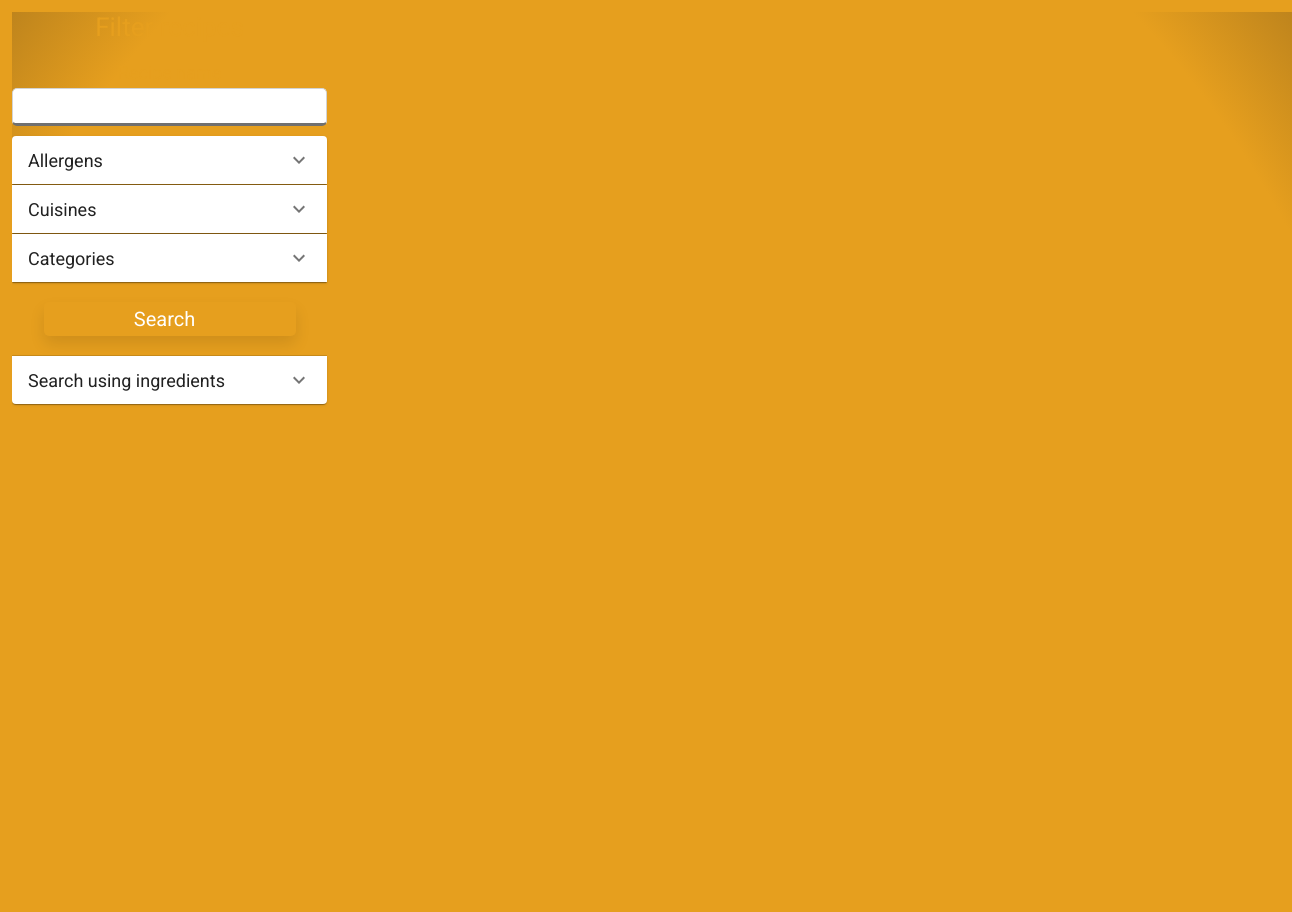
should render ingredient input list
What coordinates should you click on to do the following:
click the button "Search using ingredients"
I would click on:
 (170, 380)
Its box is [28,368,311,392].
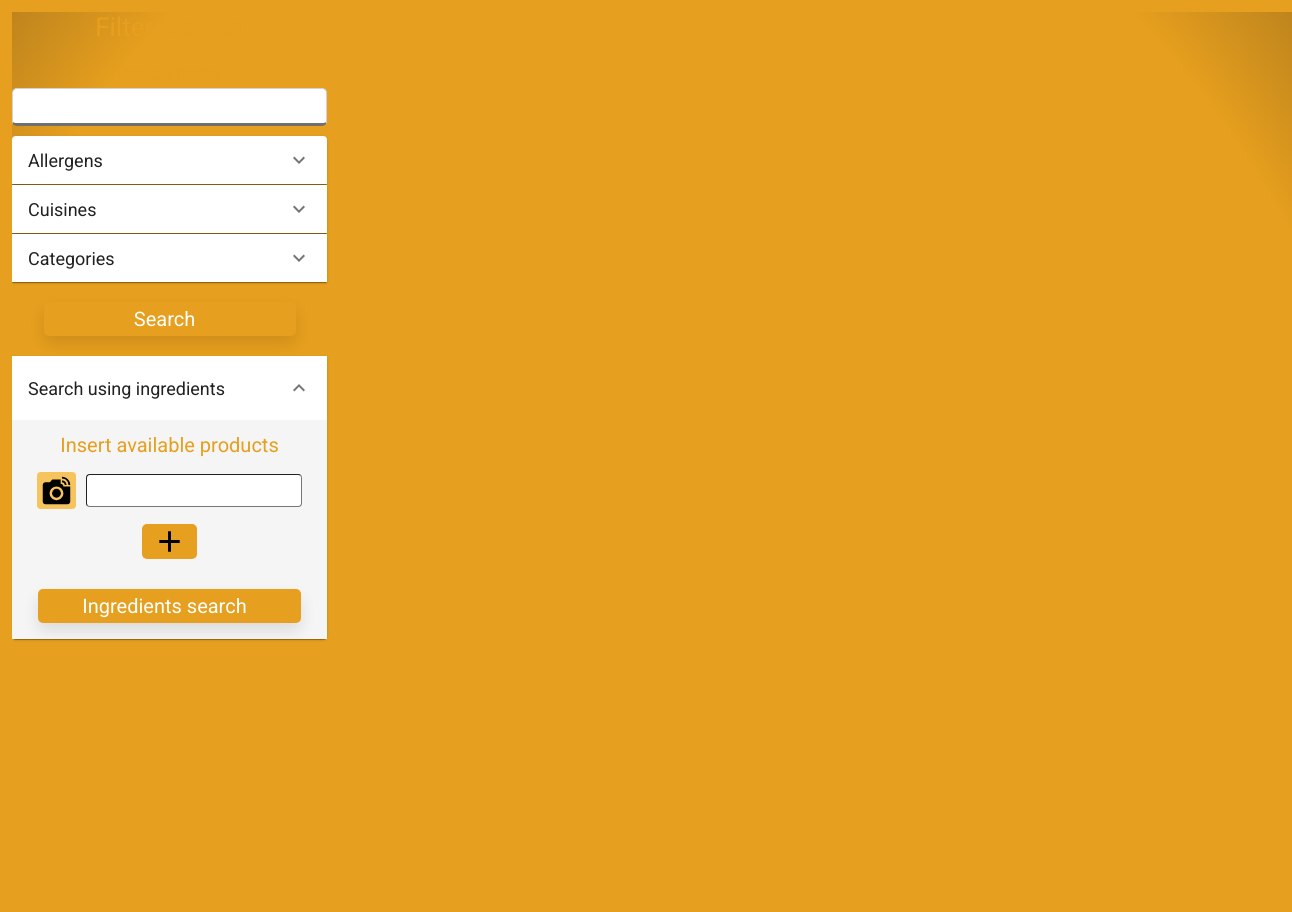
Expected: the number of elements with test id "ingredient" is 1, [37,472,302,509]
